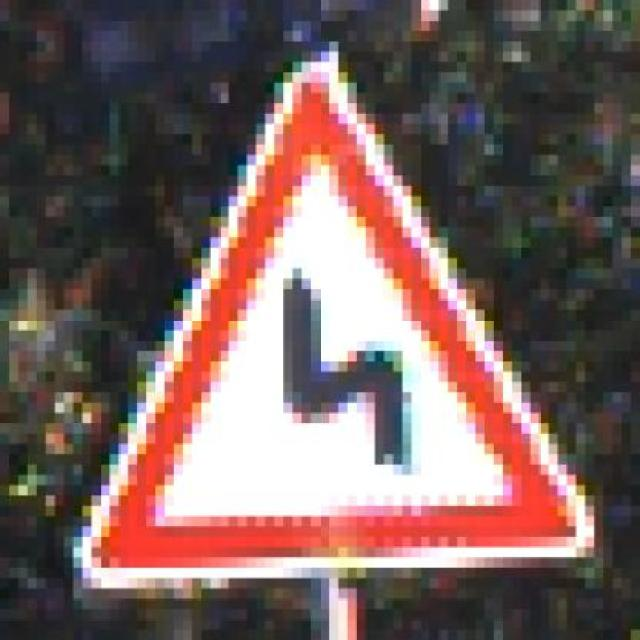Left Zig Zag Traffic: (55, 51, 603, 578)
